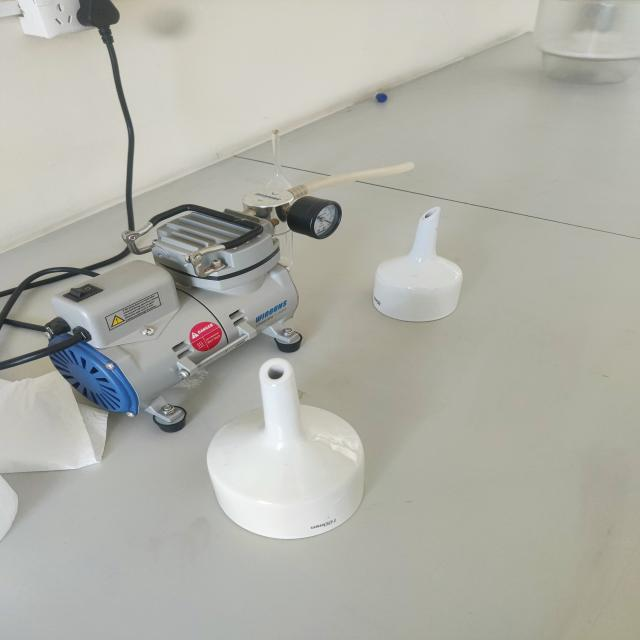Buchner_Funnel: (180, 343, 384, 555), (344, 190, 502, 342)
